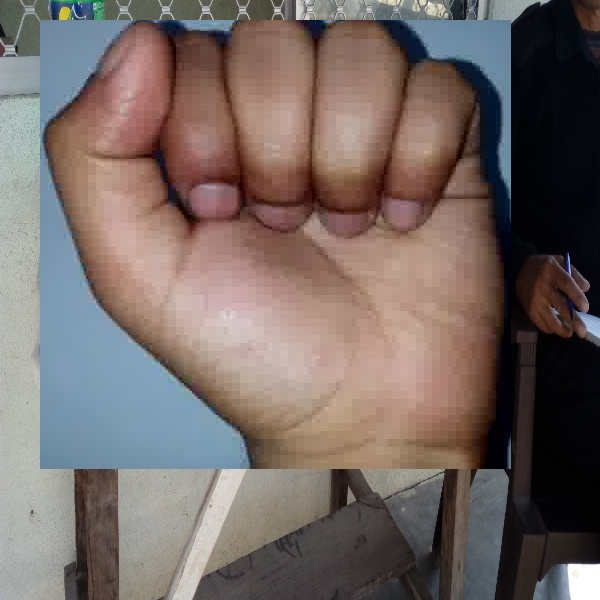A: (40, 20, 511, 469)
